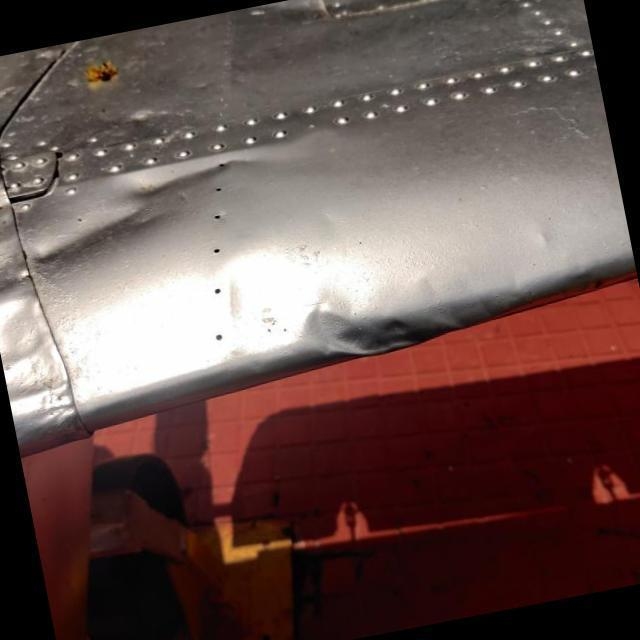Dent: (2, 124, 286, 306), (306, 266, 452, 386)
